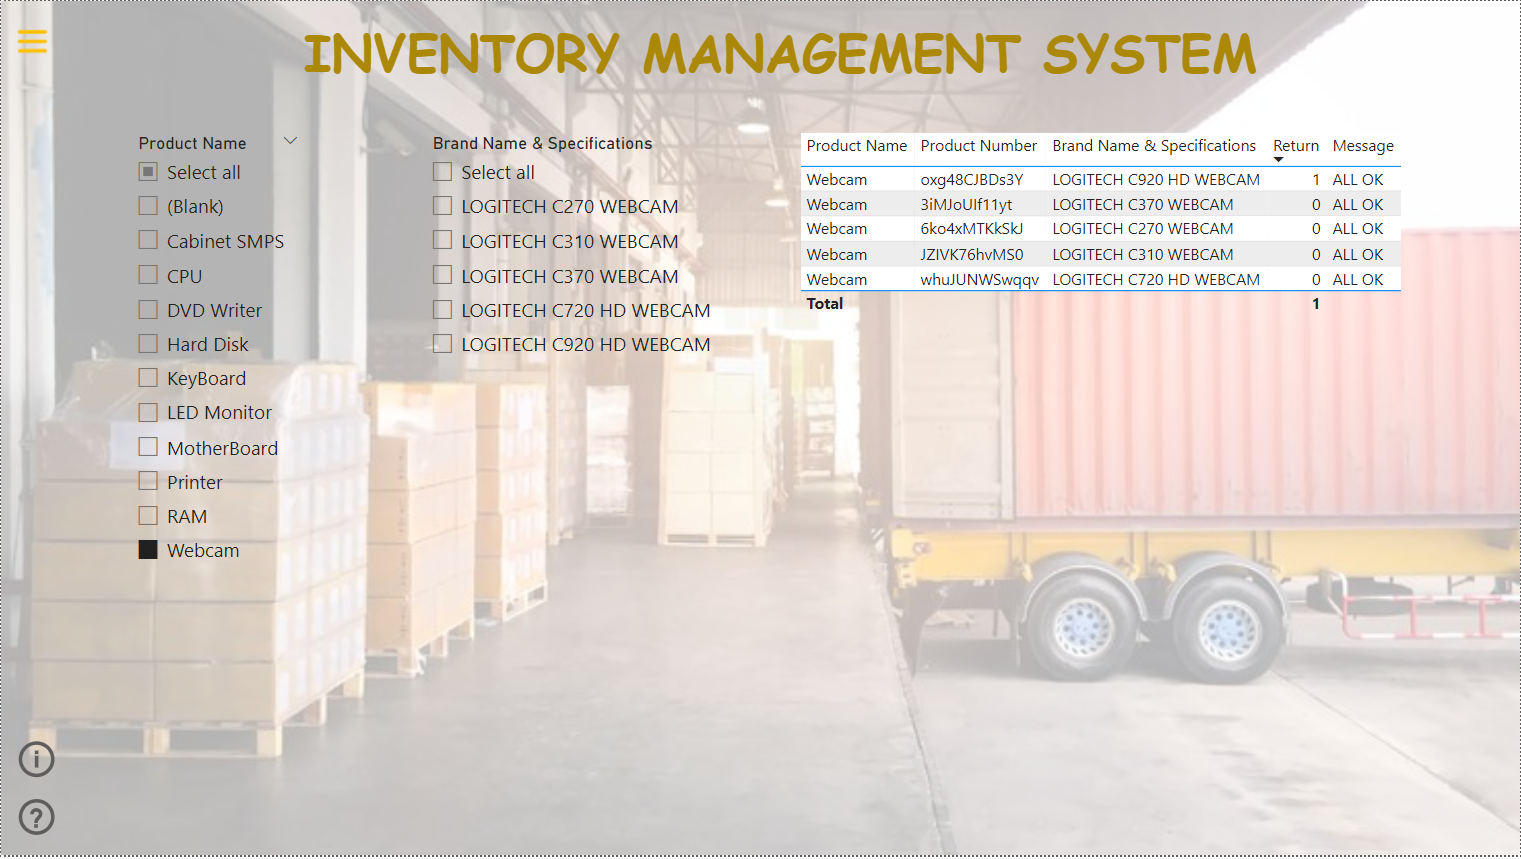

Layout of this report page (visuals, bound fields, positions):
{"tool":"powerbi","page":{"name":"return","canvas":[1280,720],"ordinal":4},"visuals":[{"type":"textbox","box":[44.6,7.1,1223.1,79.1],"z":0},{"type":"actionButton","title":"question","box":[9.5,667.7,46.2,40.2],"z":0,"group":"g1"},{"type":"actionButton","title":"info","box":[9.5,619.1,46.2,40.2],"z":1000,"group":"g1"},{"type":"group","id":"g1","title":"Menu bar","box":[9,17,46.6,690.9],"z":2000},{"type":"actionButton","title":"menu","box":[9,17,35,35],"z":2000,"group":"g1"},{"type":"tableEx","fields":{"Values":["return.Product Name","return.Product Number","return.Brand Name & Specifications","Sum(return.return)","return.Message"]},"box":[667.7,105.4,600.2,614.4],"z":3000},{"type":"slicer","fields":{"Values":["return.Product Name"]},"box":[103,105.4,159.8,380],"z":3001},{"type":"slicer","fields":{"Values":["return.Brand Name & Specifications"]},"box":[350.4,105.4,277,582.4],"z":3002}]}

Visuals, with their boxes in screenshot pixels (x1, y1, x2, y2), scaled from the page's 1280x720 canvas onto the 1521x859 screenshot:
textbox: Rect(53, 8, 1506, 103)
"question" actionButton: Rect(11, 797, 66, 845)
"info" actionButton: Rect(11, 739, 66, 787)
"Menu bar" group: Rect(11, 20, 66, 845)
"menu" actionButton: Rect(11, 20, 52, 62)
tableEx - return.Product Name x return.Product Number: Rect(793, 126, 1507, 858)
slicer - return.Product Name: Rect(122, 126, 312, 579)
slicer - return.Brand Name & Specifications: Rect(416, 126, 746, 821)
